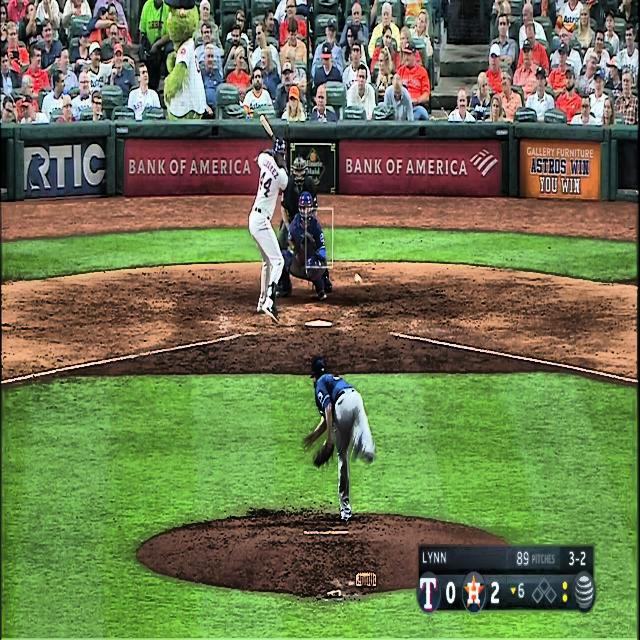baseball: (354, 273, 362, 285)
